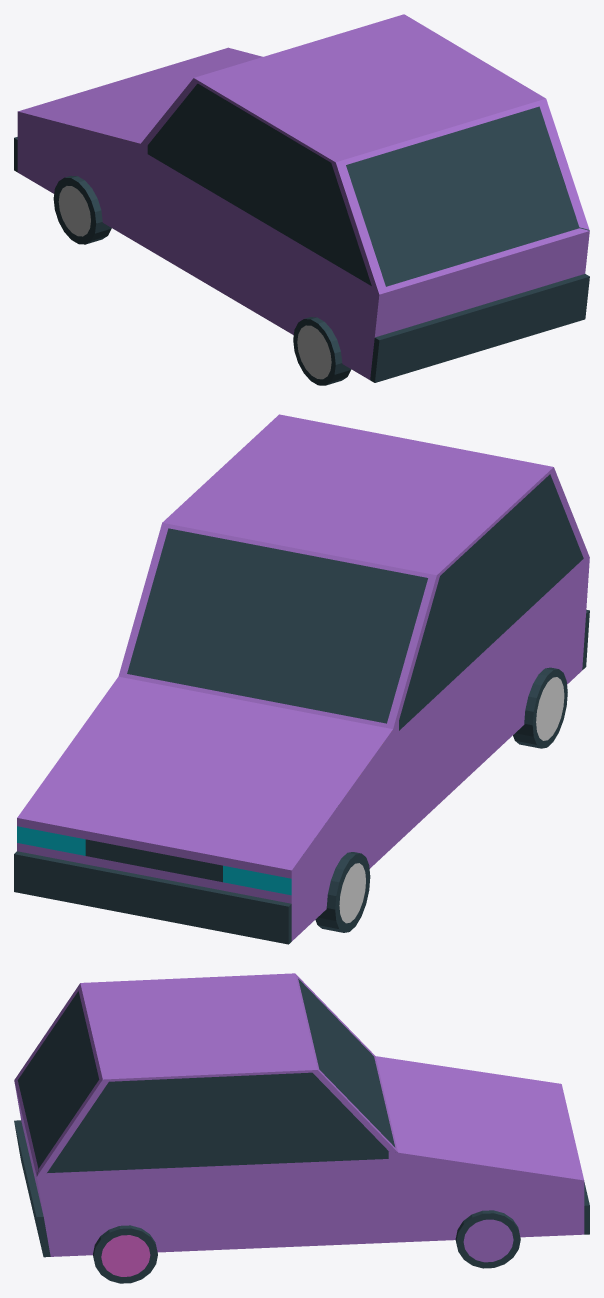
The model's file is car_03_3_world_ap_0_lev1.glb.
3 renders of one model, top to bottom at view 1: azimuth 30°, elevation 25°; view 2: azimuth 150°, elevation 25°; view 3: azimuth 270°, elevation 25°, orthographic. The views are drawn at different scales.
Visible parts, largest first — view 1: car_03_3_world_ap_0_lev1; view 2: car_03_3_world_ap_0_lev1; view 3: car_03_3_world_ap_0_lev1.
Part boxes in pixels (x1=…): car_03_3_world_ap_0_lev1: x1=14, y1=14, x2=589, y2=385; car_03_3_world_ap_0_lev1: x1=14, y1=414, x2=589, y2=944; car_03_3_world_ap_0_lev1: x1=14, y1=973, x2=589, y2=1283.
Bounding box in the file's own units: 0.7684 × 0.6023 × 1.55.
1 material, 1 textured.
